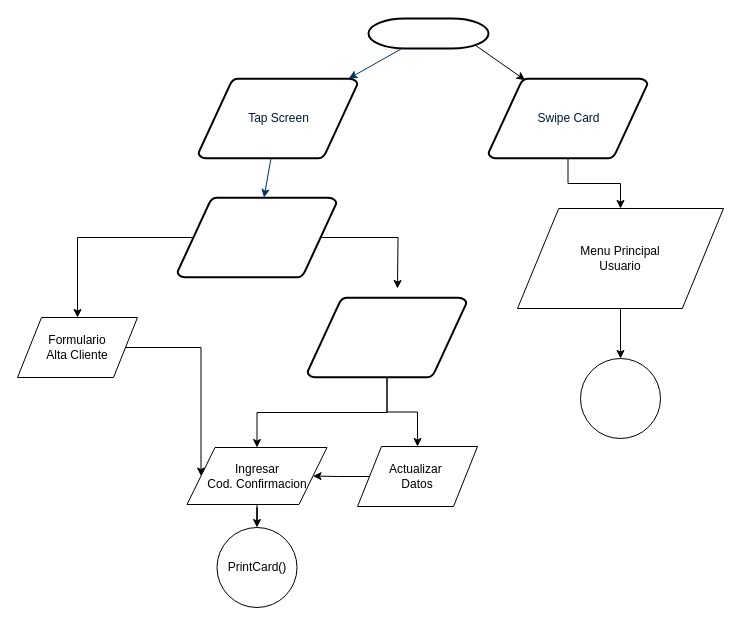
Some shapes in this 741 by 625 pixel diagram are drawn without their labels. The shapes that lost their labels are listed below. From the top down, each one's centre as x and y in pixels, then its label:
point (428, 33): Inicio (Ads)
point (256, 237): Menu Usuario No registrado
point (386, 337): Ingrese Documento Ingrese Contraseña
point (620, 398): Canjes
